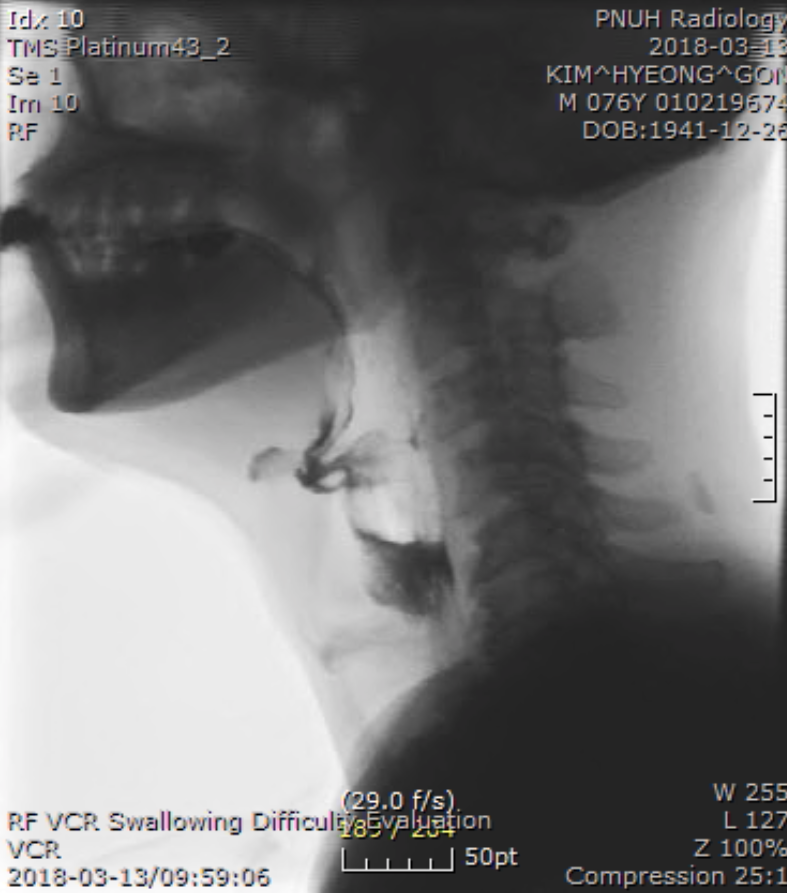dros: (338, 519, 443, 634)
food: (247, 379, 480, 649)
uros: (284, 414, 378, 507)
